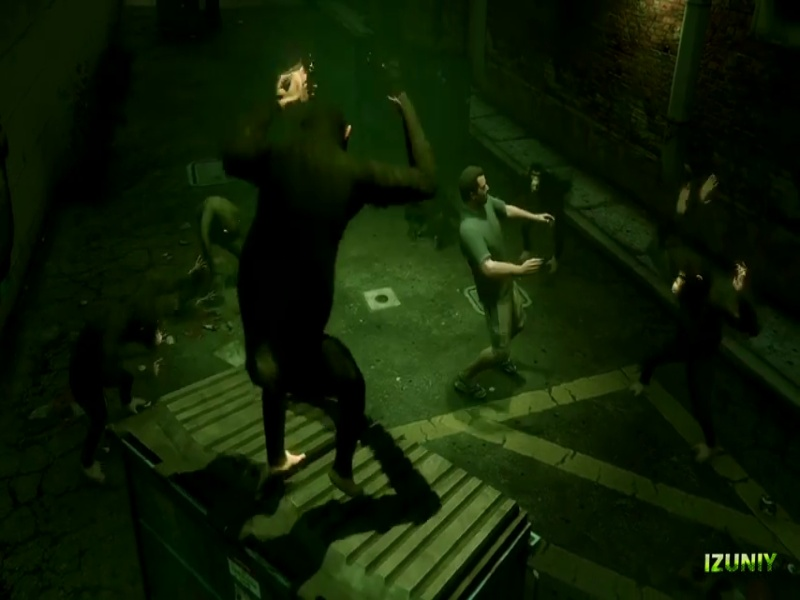human: (211, 127, 440, 534)
